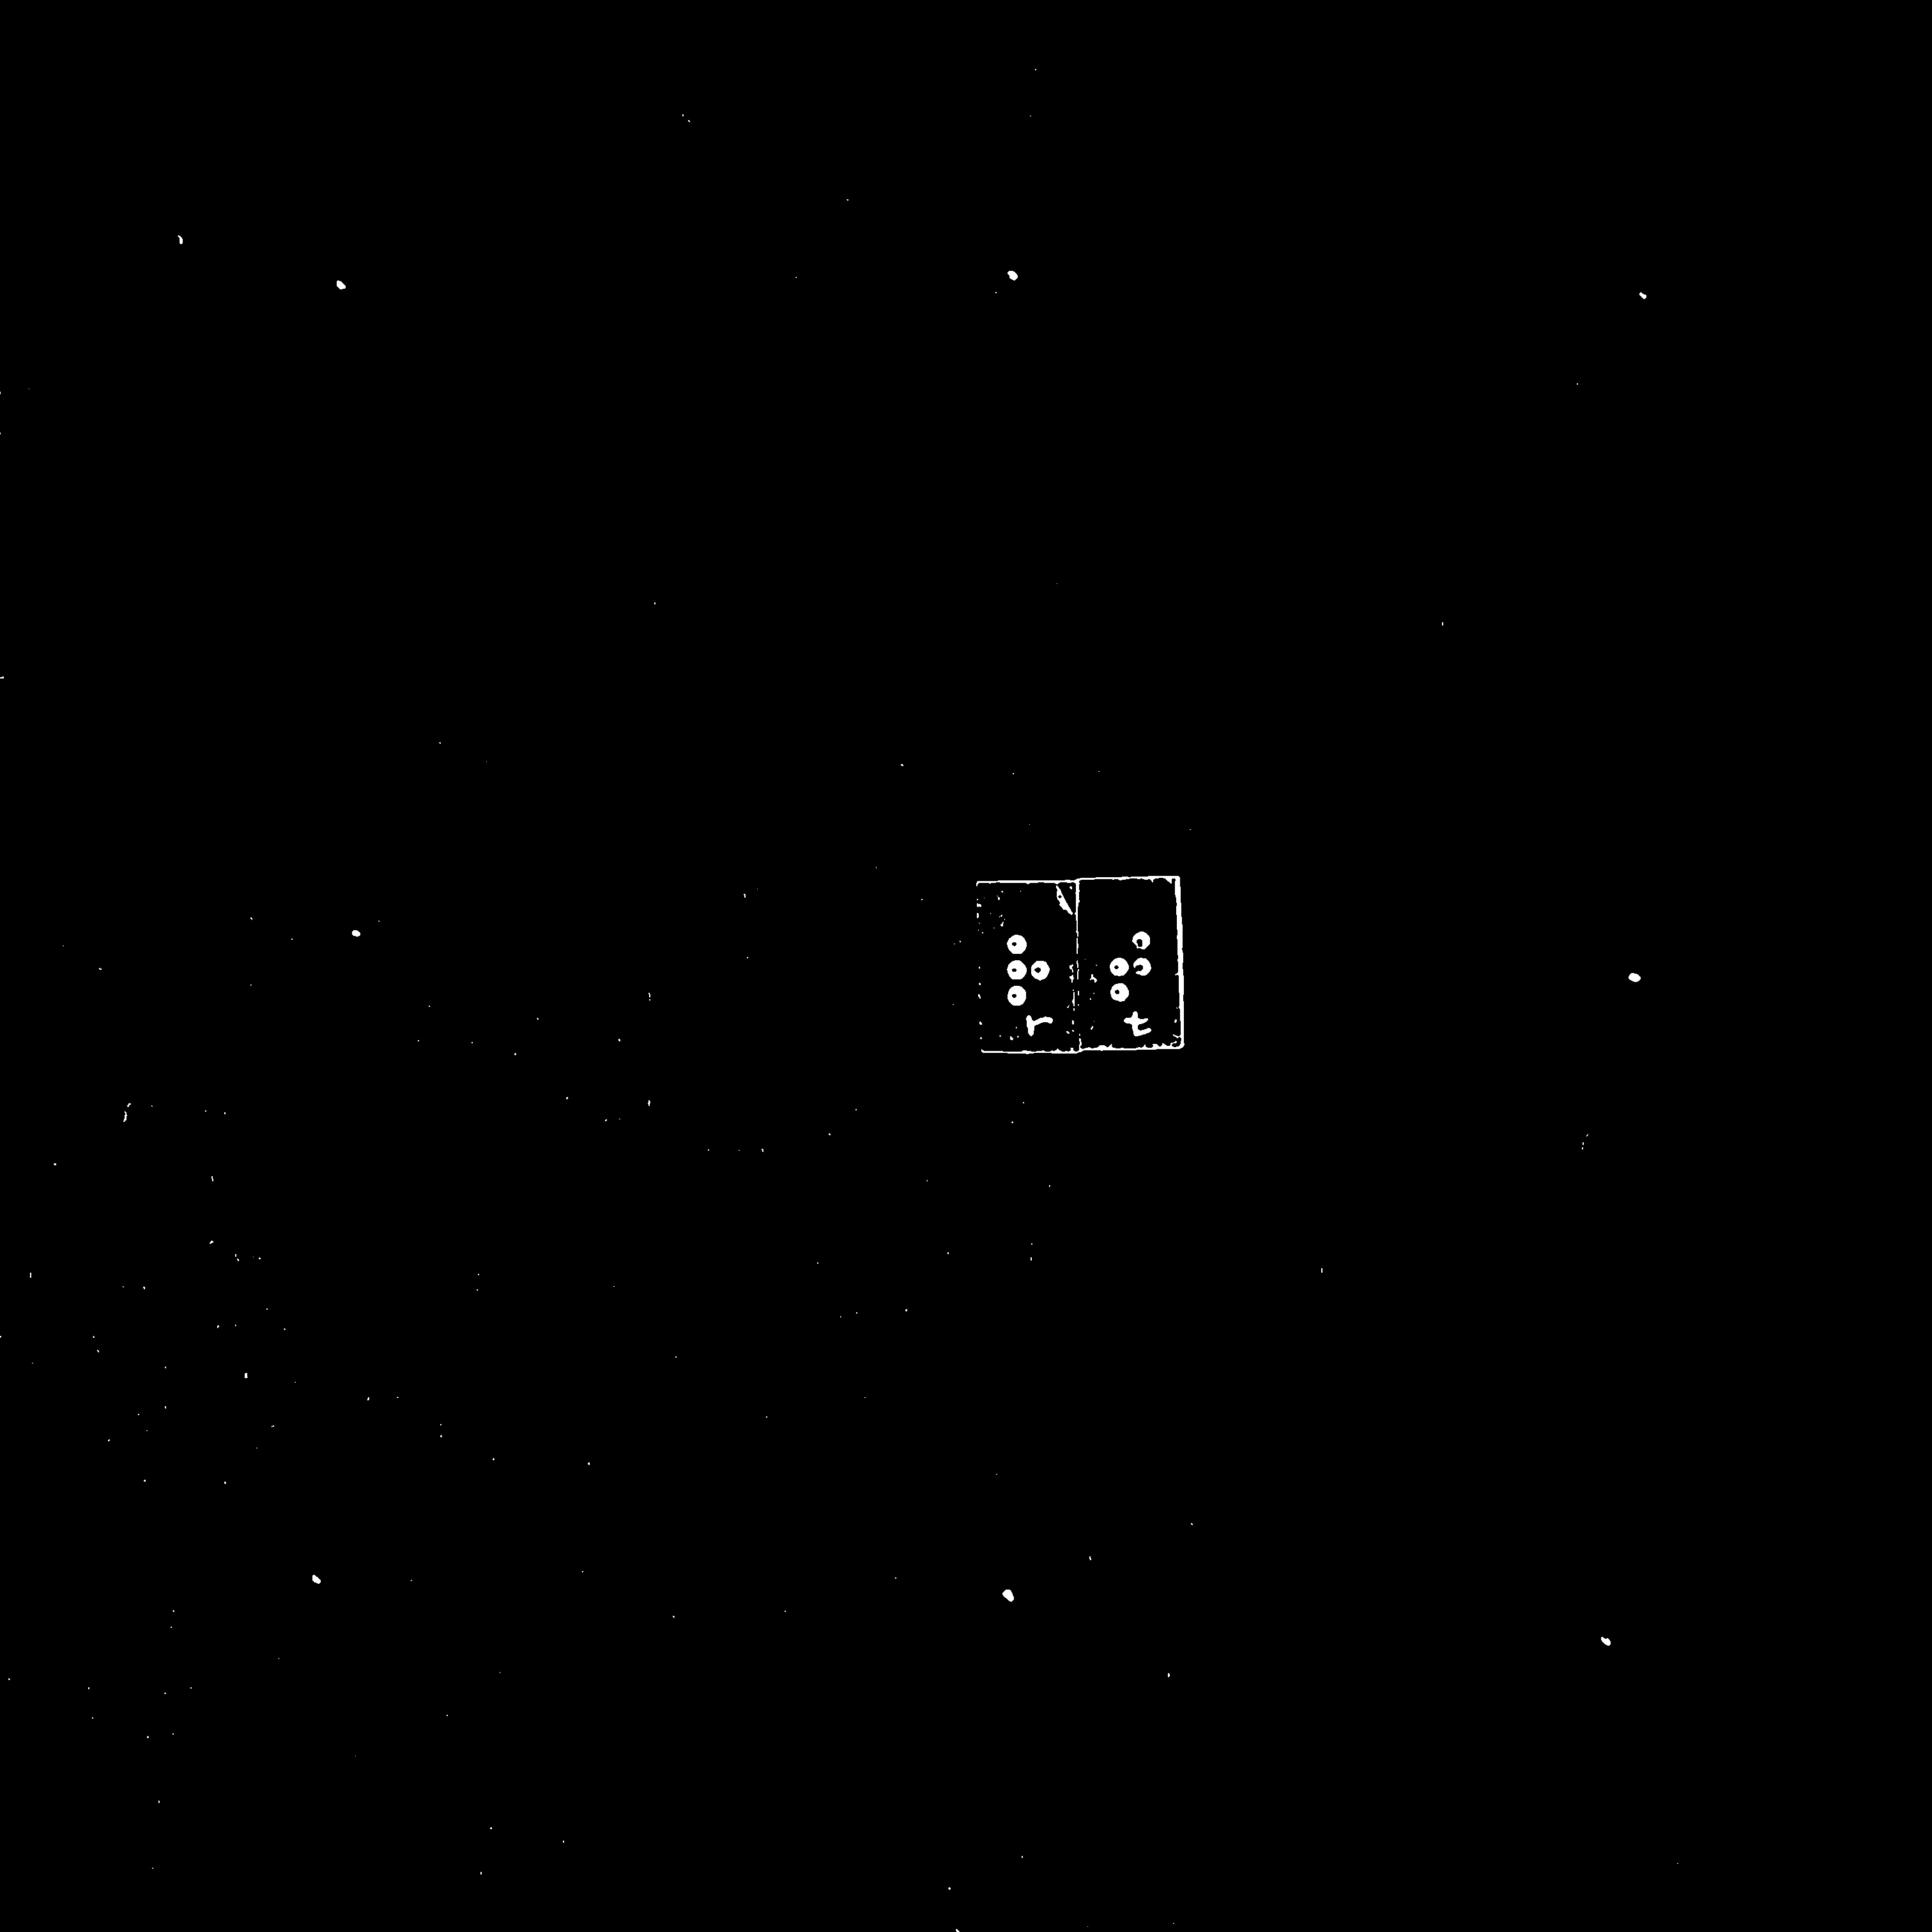r: (999, 921, 1060, 1013)
t: (1100, 919, 1159, 1011)
